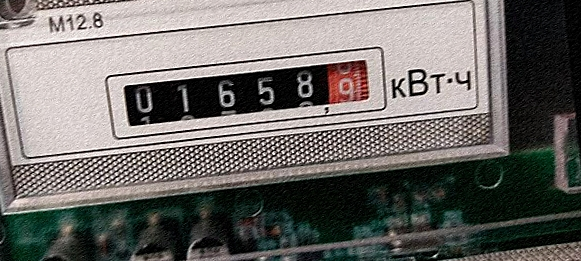0: (131, 82, 155, 116)
1: (175, 82, 191, 114)
5: (254, 73, 277, 107)
6: (214, 77, 238, 110)
8: (293, 67, 315, 101)
9: (334, 75, 355, 103)
screen: (96, 36, 393, 146)
